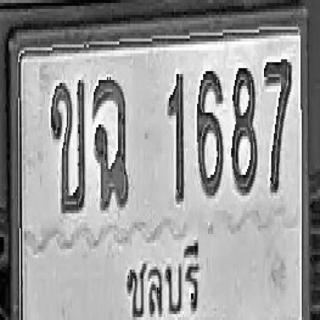A02: (51, 77, 86, 213)
A09: (92, 77, 129, 210)
N01: (168, 71, 184, 201)
N06: (197, 68, 223, 196)
N07: (264, 56, 292, 193)
N08: (231, 64, 257, 194)
P13: (122, 237, 201, 320)
